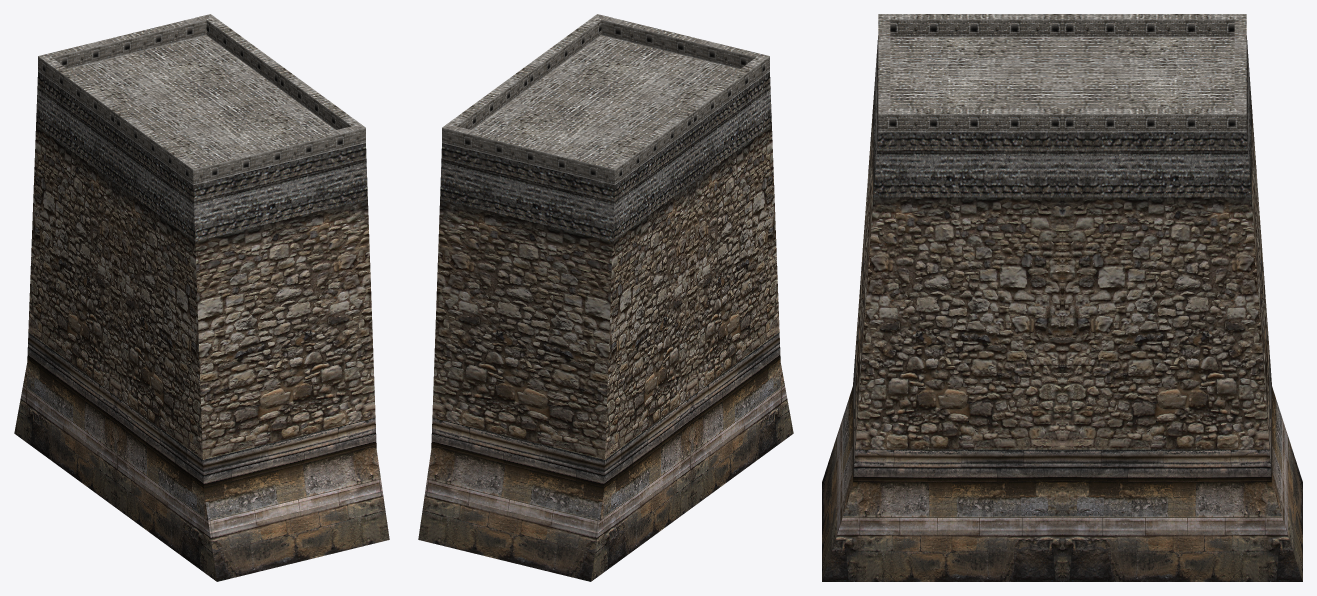
Rendered from auction_gwall02.FBX.
3 views of the same model, side by side, from view 1: azimuth 30°, elevation 25°; view 2: azimuth 150°, elevation 25°; view 3: azimuth 270°, elevation 25° (orthographic). The views are drawn at different scales.
Parts seen in each view (by area): view 1: auction_gwall02; view 2: auction_gwall02; view 3: auction_gwall02.
Boxes of the visible parts, bbox=[...] form: auction_gwall02: bbox=[14, 14, 389, 581]; auction_gwall02: bbox=[418, 14, 793, 581]; auction_gwall02: bbox=[822, 14, 1302, 581].
Size of the model in its own units: 1686 by 3683 by 3429.
Materials: 3 (3 with a texture image).
